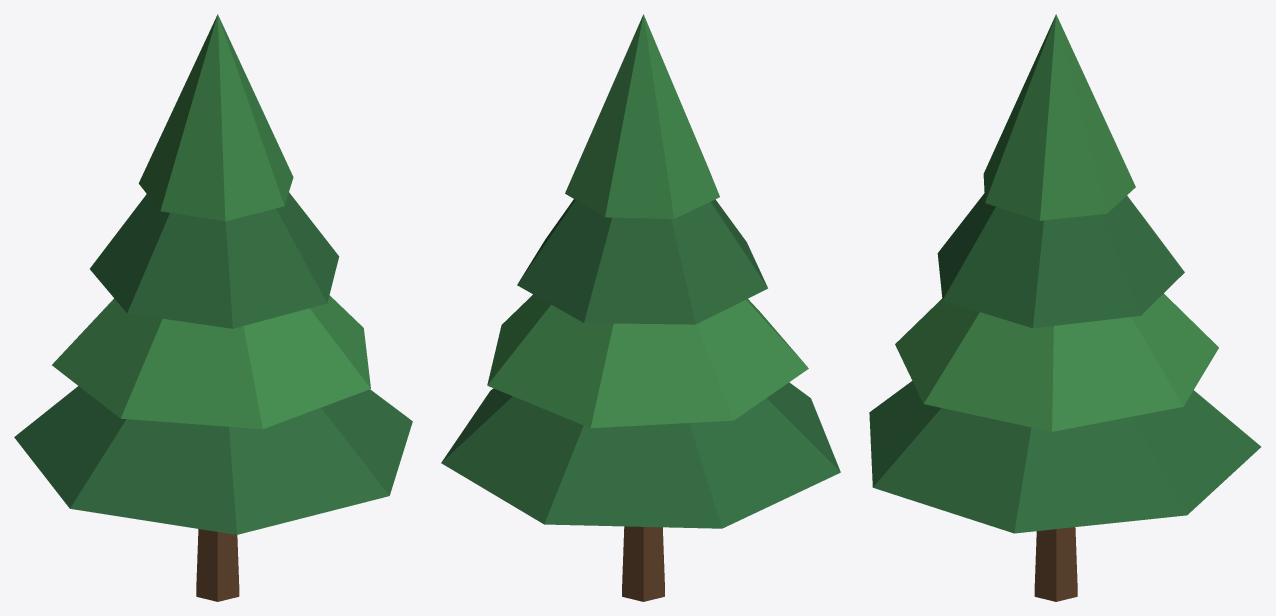
Rendered from pine-a.glb.
The picture shows the model from 3 angles, left to right: view 1: azimuth 30°, elevation 25°; view 2: azimuth 150°, elevation 25°; view 3: azimuth 270°, elevation 25°; orthographic projection.
Parts seen in each view (by area): view 1: tree; view 2: tree; view 3: tree.
Boxes of the visible parts, x1=… form: tree: x1=14, y1=14, x2=412, y2=601; tree: x1=441, y1=14, x2=840, y2=601; tree: x1=869, y1=14, x2=1261, y2=601.
Bounding box in the file's own units: 5.18 × 8.24 × 5.07.
